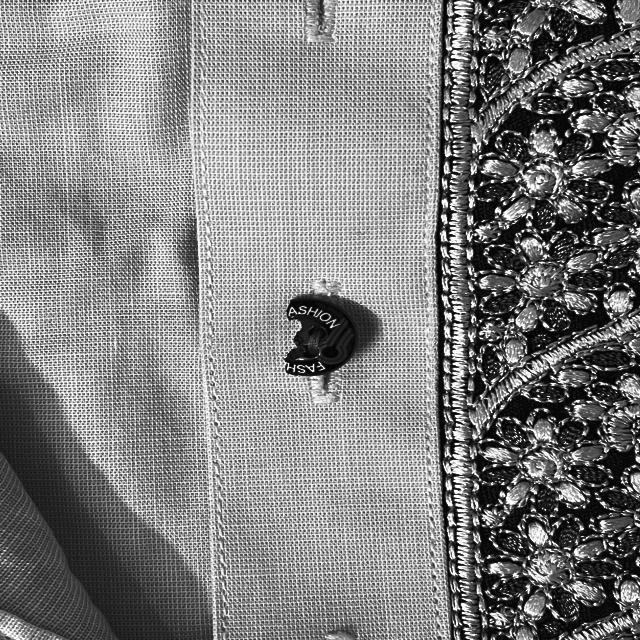Broken_button: (265, 287, 371, 388)
